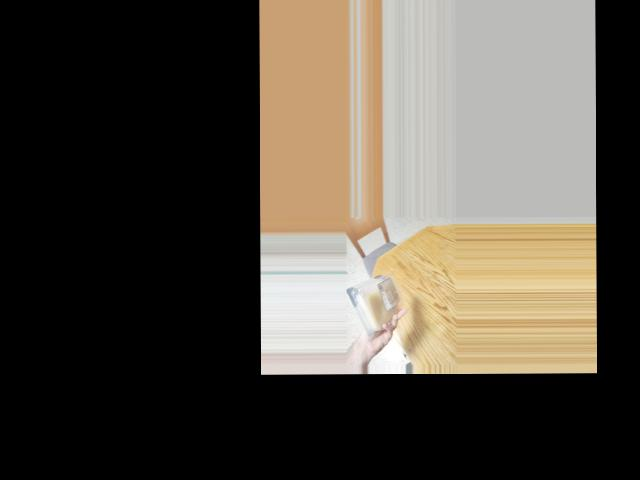cheese: (355, 274, 396, 332)
